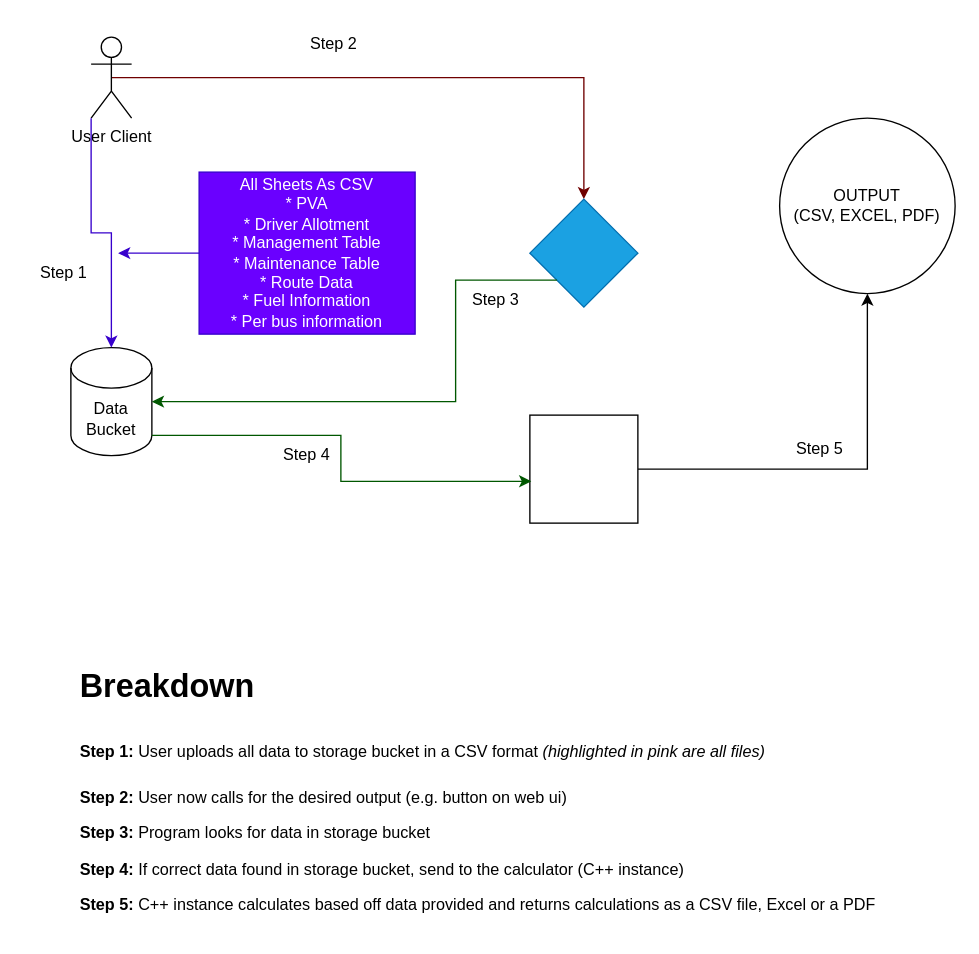
This 979x954 diagram has some shape labels left out. The box of each missing label's shape, as (x1, y1, x2, y2) in pixels:
C++ Instance (Calculator): (529, 414, 638, 523)
Run Instance: (529, 198, 638, 307)
